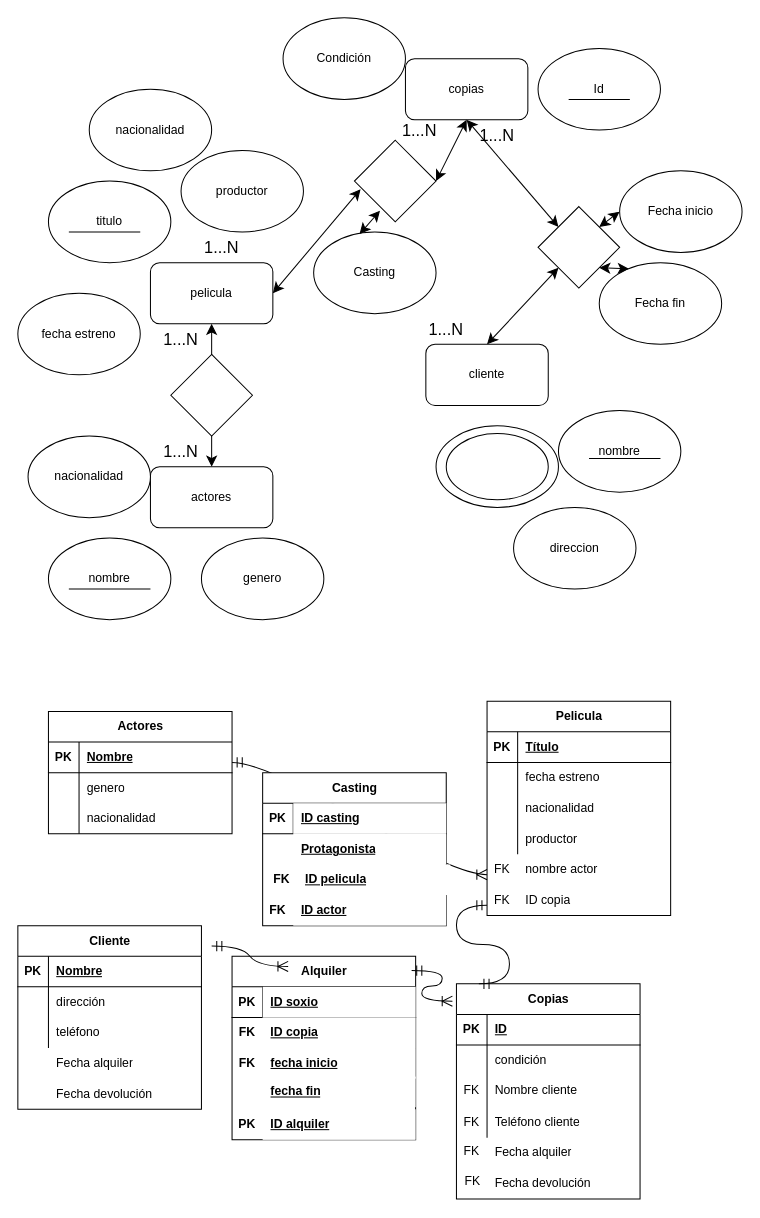
The diagram is 760 pixels wide and 1218 high, and some of its shapes have lost their labels. The box of each missing label's shape, as (x1, y1, x2, y2) in pixels:
actuar: (170, 353, 252, 436)
corresponder: (353, 139, 436, 222)
obtener: (537, 206, 620, 288)
telefono: (445, 432, 548, 500)
